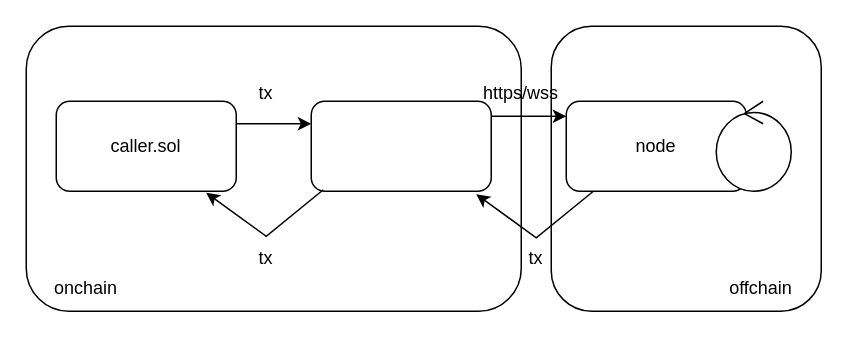
The diagram is 848 pixels wide and 338 high, and some of its shapes have lost their labels. The centre of each missing label's shape, as x and y in pixels:
"job" belongs at pixel 753 145.
"oracle.sol" belongs at pixel 400 145.
